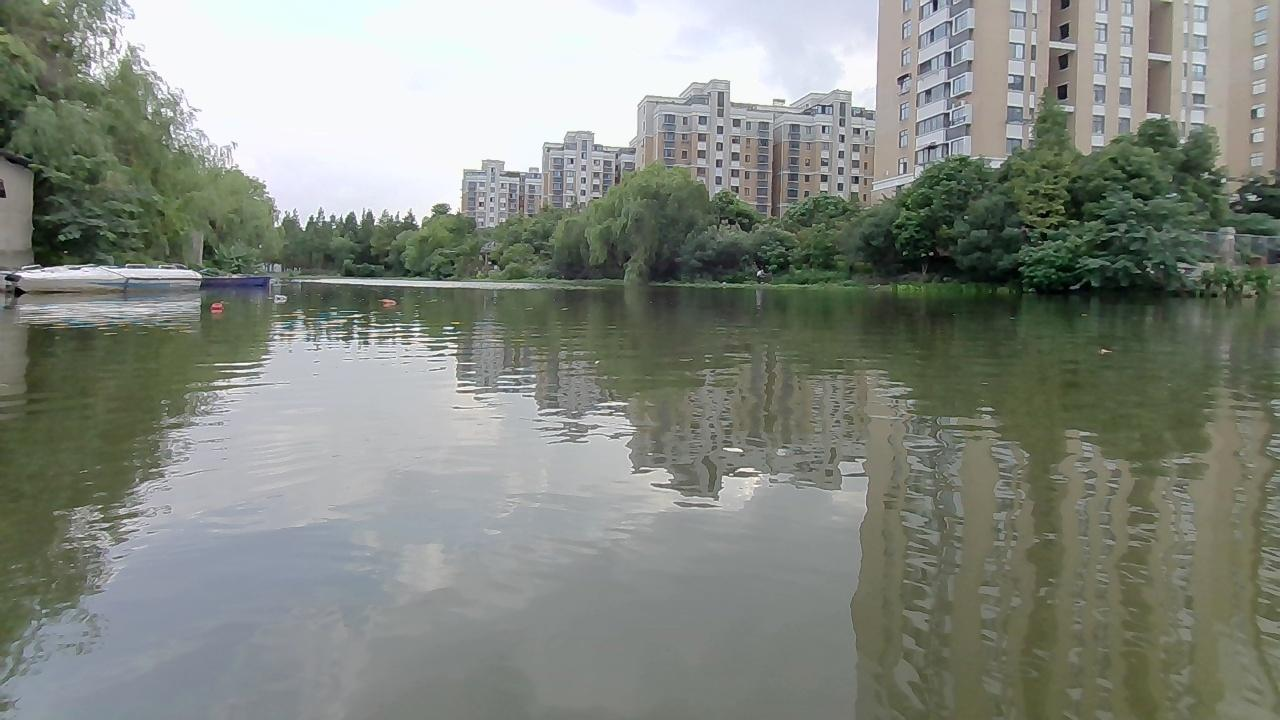bottle: (206, 299, 227, 315), (377, 296, 397, 312), (271, 289, 290, 303)
